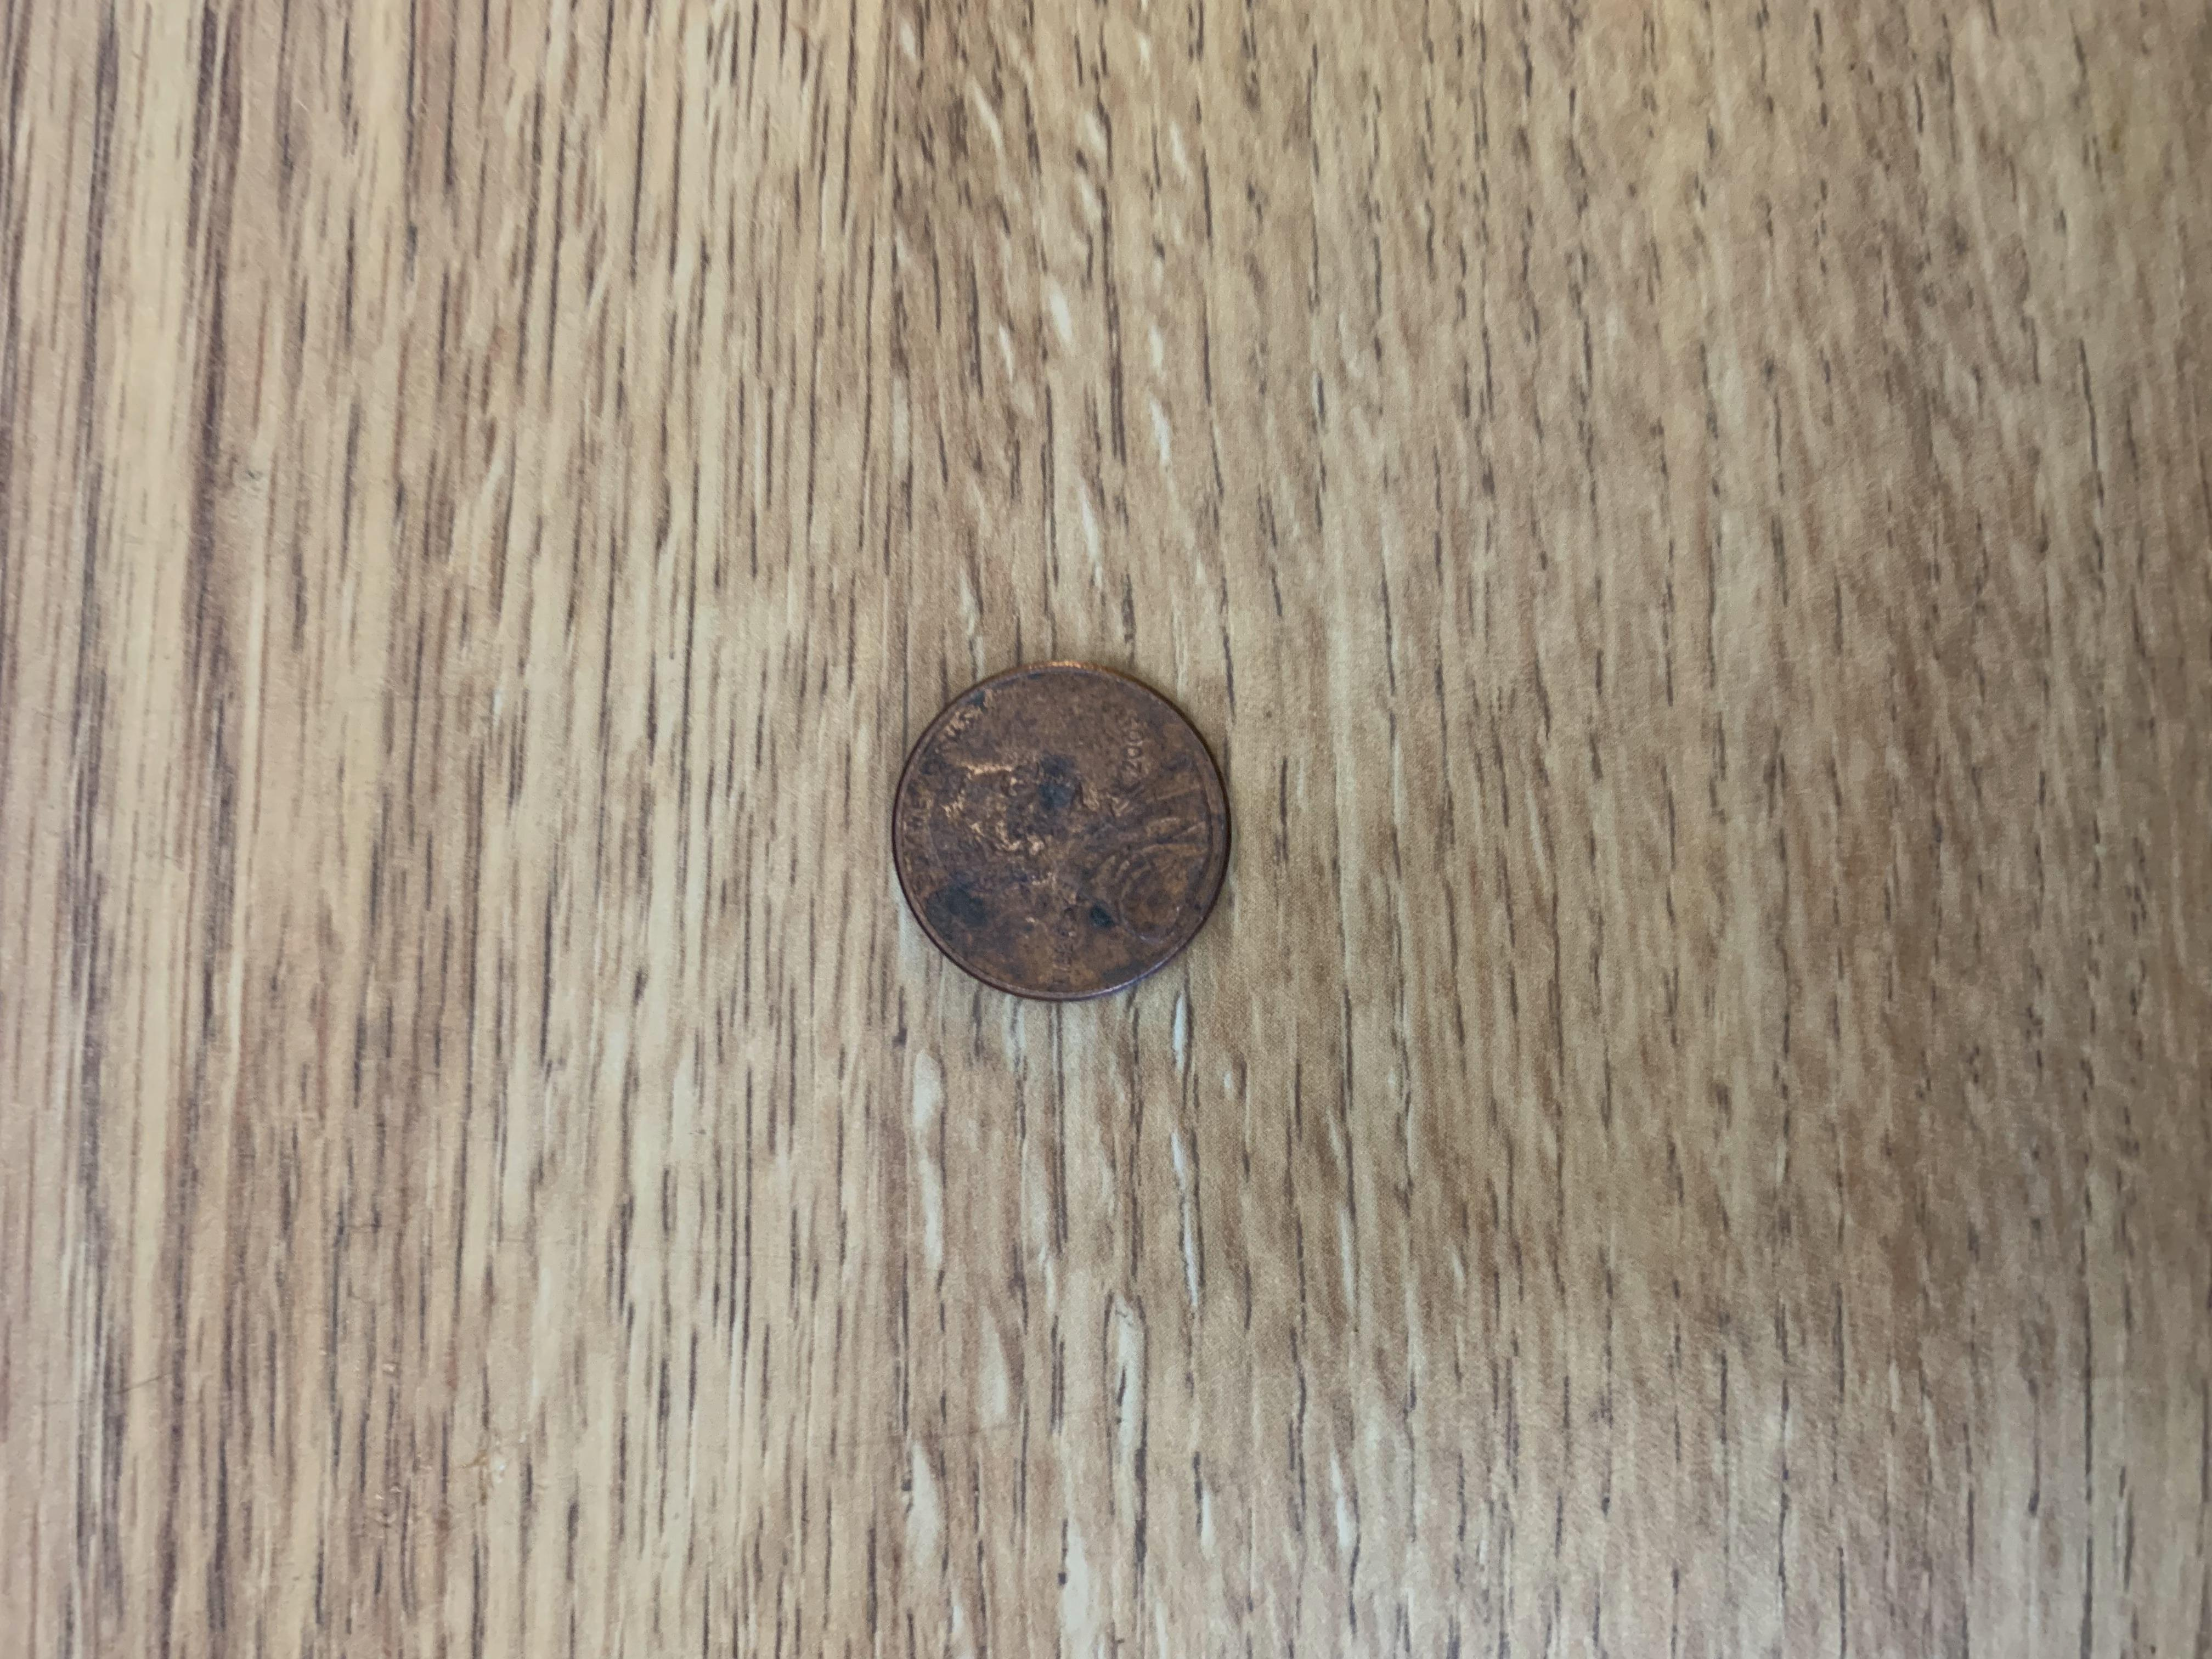Penny: (874, 648, 1242, 1014)
